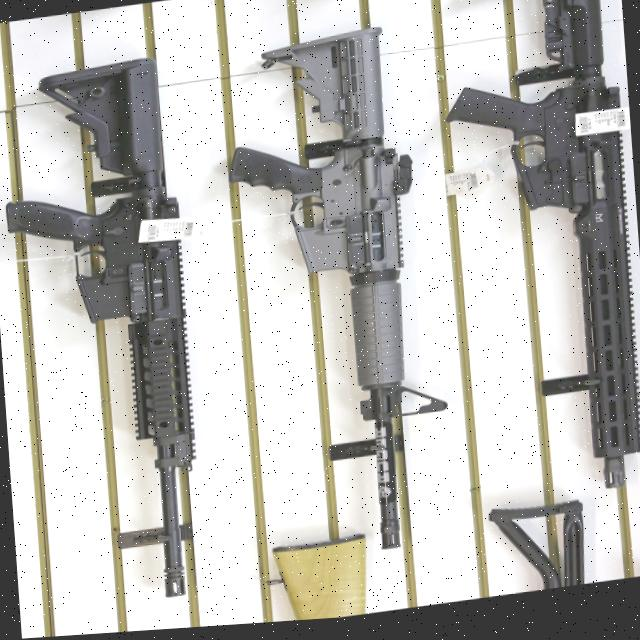firearm: (218, 23, 461, 573), (0, 54, 211, 616), (437, 0, 640, 513)
